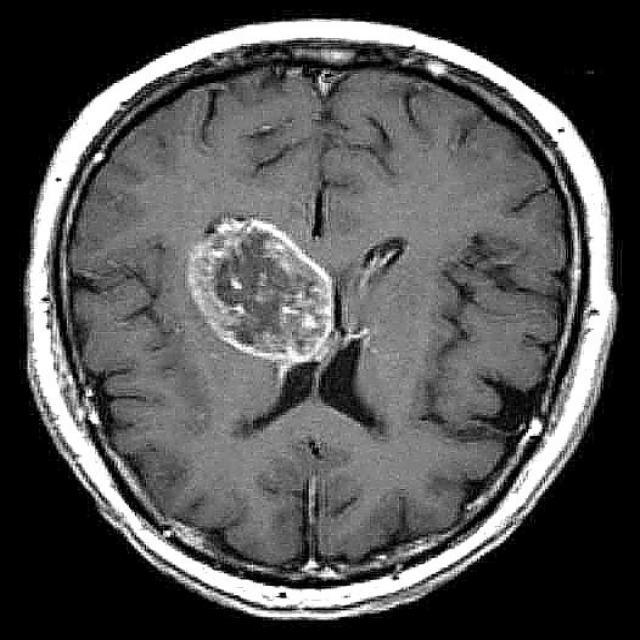tumor: (185, 216, 365, 368)
